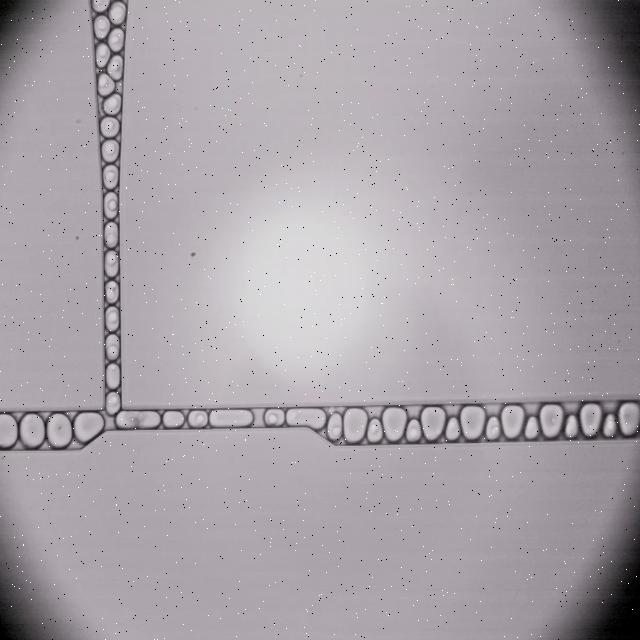L: (327, 413, 342, 440), (94, 15, 110, 39), (108, 28, 124, 52), (100, 117, 119, 137), (103, 93, 121, 114), (104, 250, 118, 277), (107, 55, 122, 80), (102, 140, 119, 162), (98, 73, 114, 96), (105, 334, 119, 360), (106, 363, 120, 389), (367, 418, 382, 442), (445, 417, 460, 441), (109, 2, 125, 24), (96, 43, 110, 68), (104, 222, 118, 247), (105, 306, 119, 331), (103, 165, 118, 188), (406, 419, 421, 442), (104, 192, 117, 218), (163, 411, 184, 427), (189, 410, 208, 427), (486, 416, 500, 439), (603, 414, 617, 437), (264, 409, 284, 424), (525, 416, 538, 439), (565, 415, 578, 438), (106, 393, 120, 414), (105, 281, 118, 303), (92, 0, 109, 12)
S: (74, 412, 104, 442), (20, 413, 45, 447), (382, 407, 407, 441), (460, 406, 485, 439), (47, 413, 71, 447), (539, 404, 563, 438), (344, 408, 367, 443), (287, 408, 325, 429), (421, 407, 445, 440), (210, 409, 253, 427), (501, 405, 524, 438), (580, 403, 602, 437), (618, 403, 640, 436), (118, 411, 160, 427), (0, 414, 17, 448)
